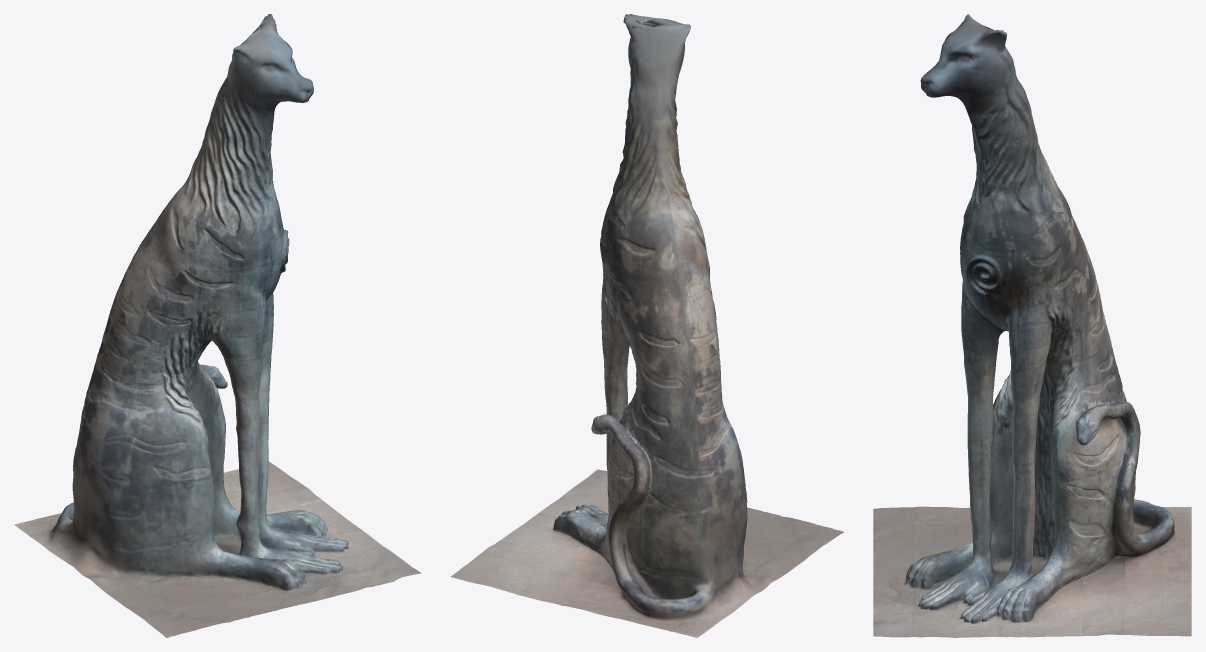
Rendered from escultura_felina.glb.
The picture shows the model from 3 angles, left to right: view 1: azimuth 30°, elevation 25°; view 2: azimuth 150°, elevation 25°; view 3: azimuth 270°, elevation 25°; orthographic projection. The views are drawn at different scales.
Visible parts, largest first — view 1: 3DModel; view 2: 3DModel; view 3: 3DModel.
Boxes of the visible parts, x1=… form: 3DModel: x1=14, y1=14, x2=421, y2=637; 3DModel: x1=450, y1=14, x2=843, y2=637; 3DModel: x1=873, y1=14, x2=1191, y2=637.
Size of the model in its own units: 0.9976 by 2.01 by 1.03.
Materials: 1 (1 with a texture image).
